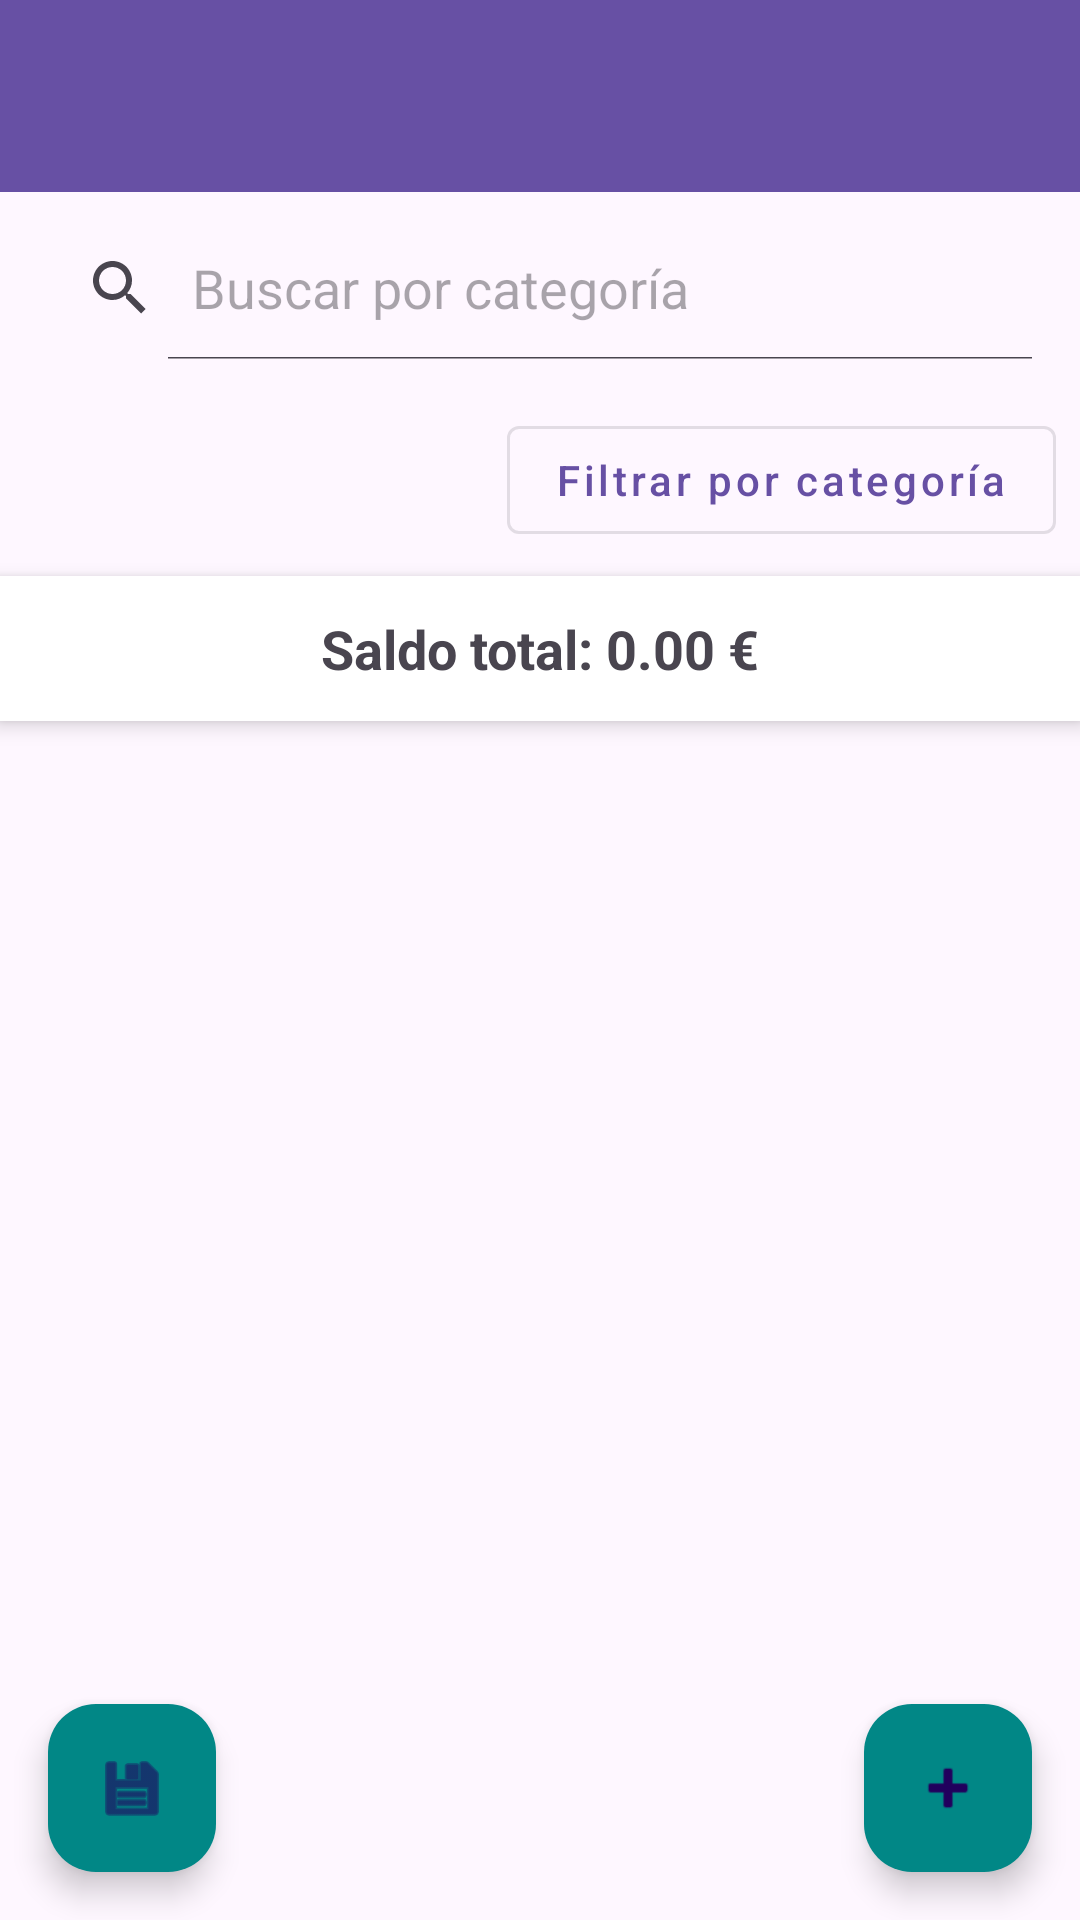

Locate icon controls on the screen. Image size 1080px x 1920px, boxes as (x1, y1, x2, y2).
Agregar Gasto: (864, 1704, 1032, 1872)
Exportar a .txt: (48, 1704, 216, 1872)
